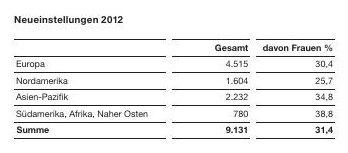table: (0, 0, 348, 153)
